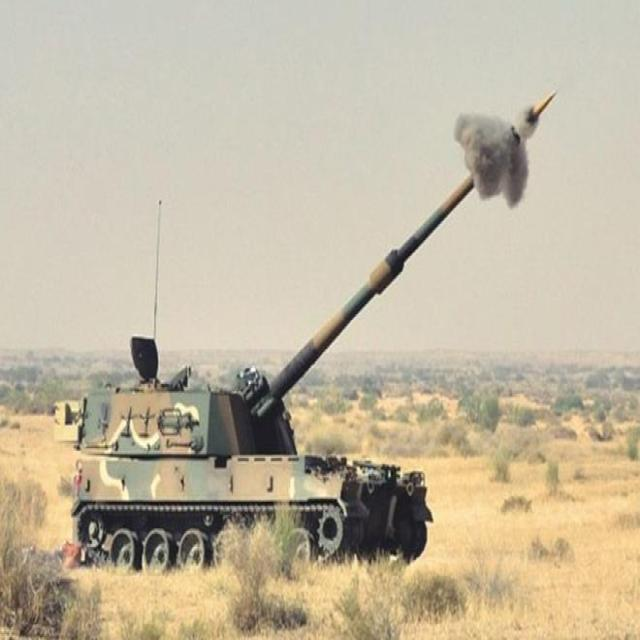Tanks: (76, 238, 447, 595)
